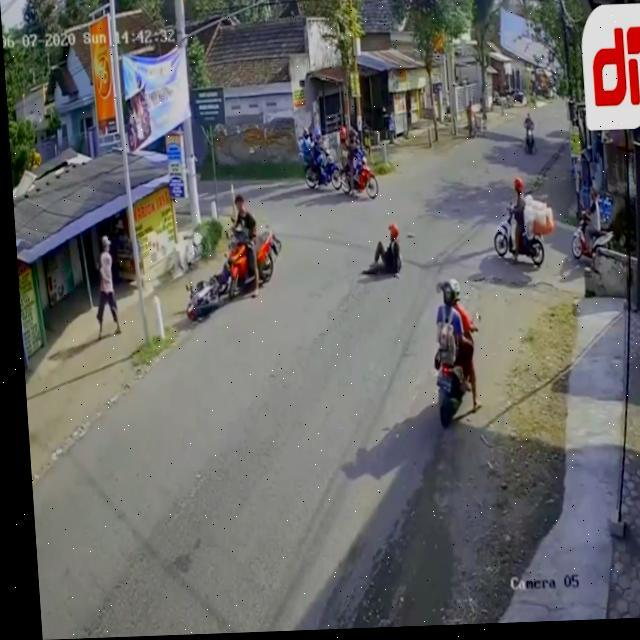multiple_accident: (162, 137, 290, 323)
normal: (277, 88, 392, 210), (422, 273, 485, 436), (493, 173, 553, 282)
